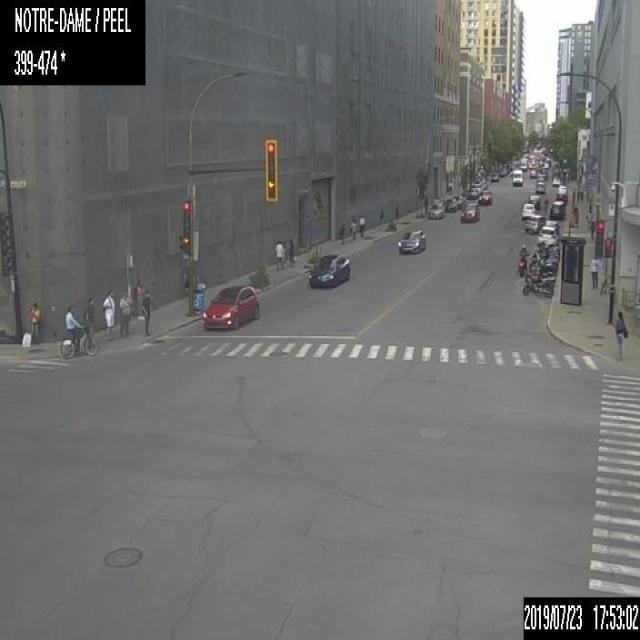cyclist: (58, 303, 98, 360)
pedestrian: (118, 286, 134, 337), (101, 288, 116, 341), (615, 311, 627, 360), (134, 272, 145, 319), (28, 301, 40, 343), (141, 289, 152, 333), (82, 297, 94, 332), (274, 240, 284, 269), (287, 238, 295, 266), (590, 254, 597, 286), (358, 212, 366, 237), (349, 216, 356, 240), (589, 221, 594, 239), (543, 197, 548, 213), (395, 206, 399, 222), (587, 202, 592, 214), (580, 188, 584, 202), (424, 195, 427, 213), (585, 189, 589, 201), (576, 189, 579, 202), (572, 189, 574, 203)
vehicle: (201, 282, 260, 330), (308, 251, 351, 288), (521, 273, 555, 299), (396, 228, 426, 255), (530, 252, 558, 270), (532, 243, 560, 260), (528, 262, 556, 279), (535, 225, 558, 245), (524, 214, 547, 233), (460, 202, 479, 222), (517, 243, 528, 277), (549, 199, 565, 218), (428, 202, 444, 220), (545, 218, 561, 234), (478, 190, 492, 206), (522, 202, 536, 217), (444, 197, 457, 212), (511, 168, 522, 185), (452, 194, 464, 208), (529, 194, 540, 208), (555, 189, 567, 201), (499, 163, 509, 176), (535, 180, 545, 192), (551, 175, 560, 186), (520, 157, 527, 170), (536, 173, 544, 183), (558, 184, 566, 194), (491, 172, 498, 182), (529, 168, 535, 178)
